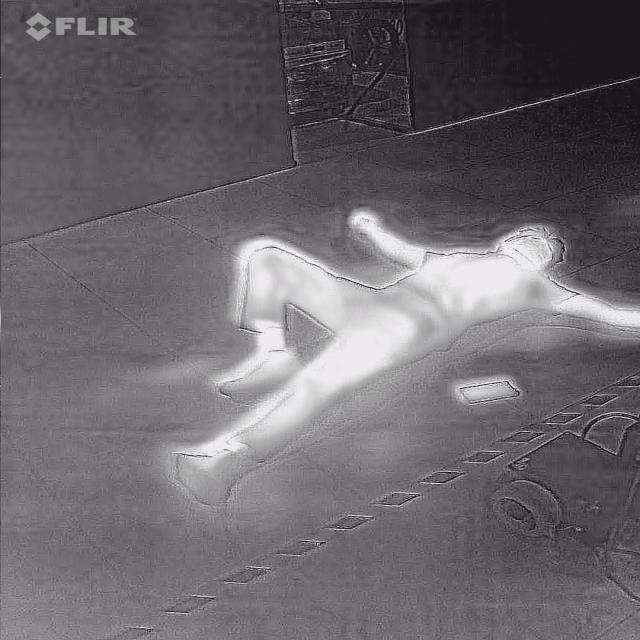Victim: (165, 204, 639, 509)
